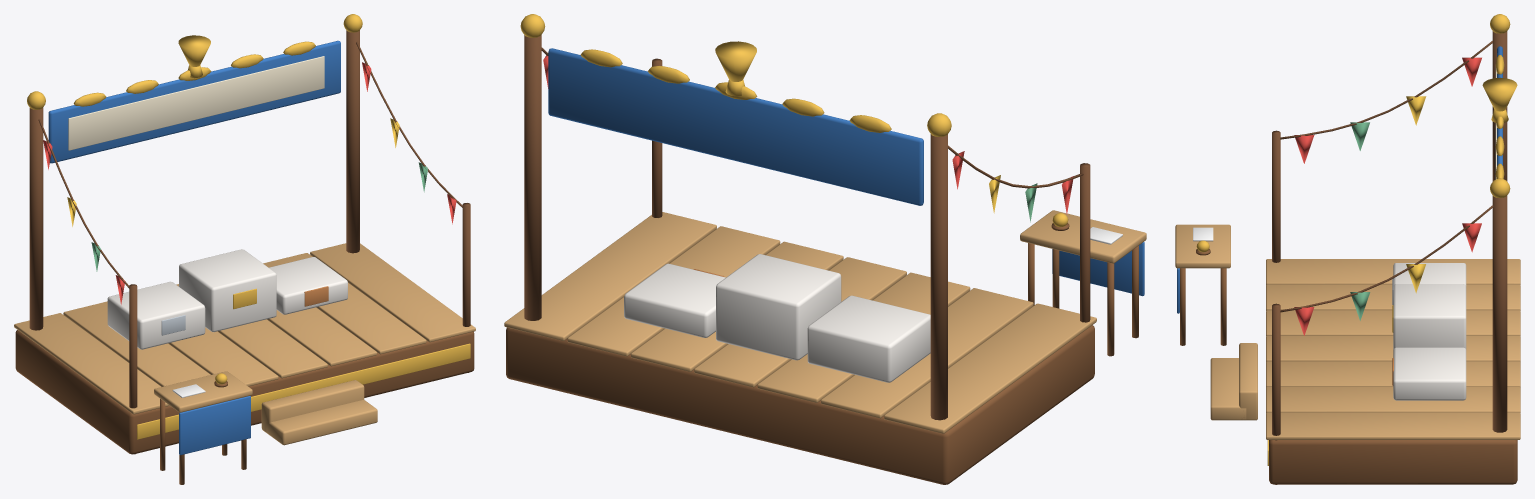
The model's file is contest-stage.glb.
3 views of the same model, side by side, from view 1: azimuth 30°, elevation 25°; view 2: azimuth 150°, elevation 25°; view 3: azimuth 270°, elevation 25° (orthographic). The views are drawn at different scales.
Visible parts, largest first — view 1: stage, desk, flags; view 2: stage, desk, flags; view 3: stage, flags, desk.
Boxes of the visible parts, x1,y1,x2,y2 form: stage: (14, 14, 475, 454); desk: (154, 371, 252, 484); flags: (38, 41, 470, 454); stage: (504, 14, 1096, 484); desk: (1020, 210, 1146, 356); flags: (541, 47, 1090, 322); stage: (1210, 14, 1520, 484); flags: (1272, 41, 1493, 484); desk: (1175, 224, 1230, 345).
Size of the model in its own units: 2.9 by 2.35 by 2.36.
